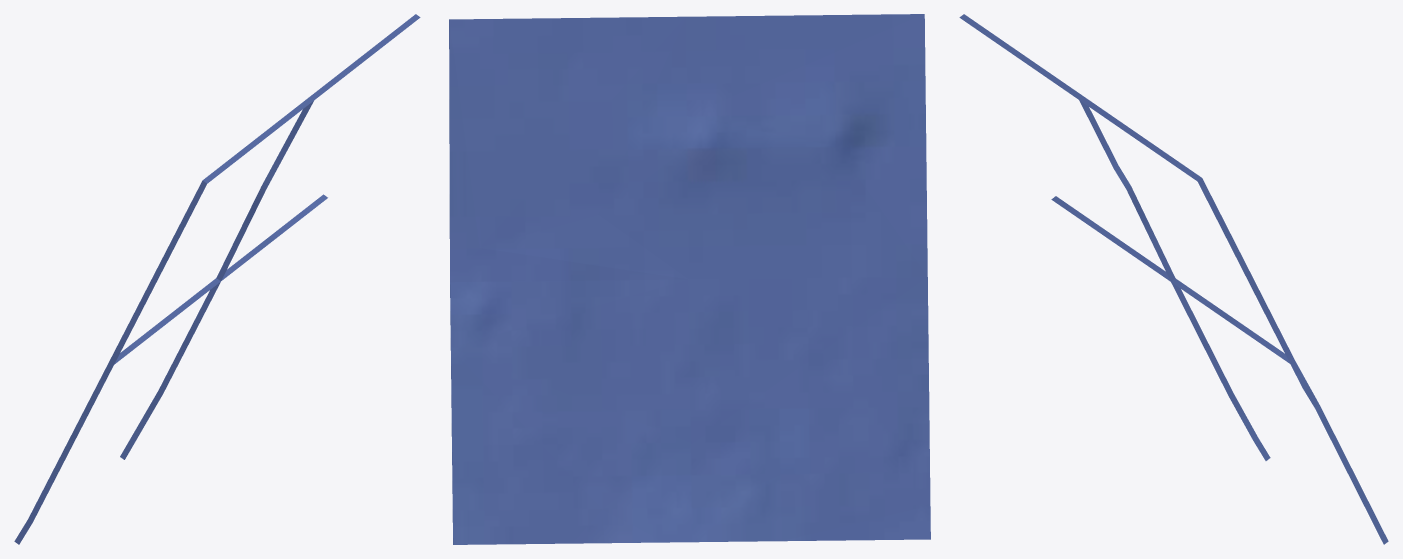
3 renders of one model, left to right at view 1: azimuth 30°, elevation 25°; view 2: azimuth 150°, elevation 25°; view 3: azimuth 270°, elevation 25°, orthographic. The views are drawn at different scales.
Bounding box in the file's own units: 19674 × 17778 × 16739.
1 material, 1 textured.
